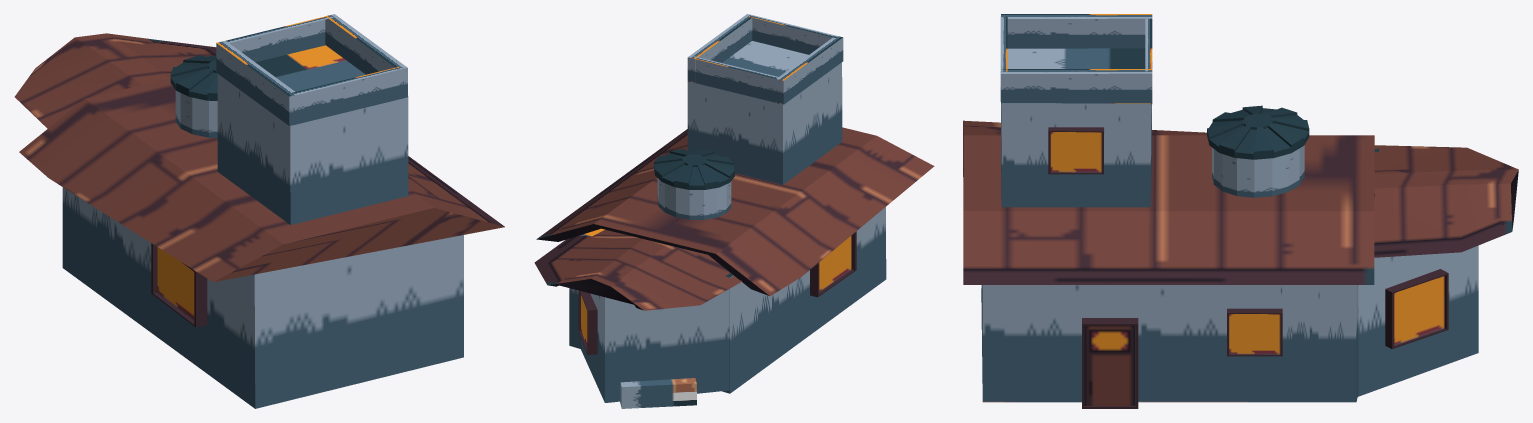
The model's file is CasaS4.fbx.
3 views of the same model, side by side, from view 1: azimuth 30°, elevation 25°; view 2: azimuth 150°, elevation 25°; view 3: azimuth 270°, elevation 25° (orthographic). The views are drawn at different scales.
Parts seen in each view (by area): view 1: Casa 4; view 2: Casa 4; view 3: Casa 4.
Part boxes in pixels (x1,y1,x2,y2): Casa 4: (14,14,504,408); Casa 4: (534,14,934,408); Casa 4: (963,14,1518,408).
Bounding box in the file's own units: 820 × 1304 × 802.
